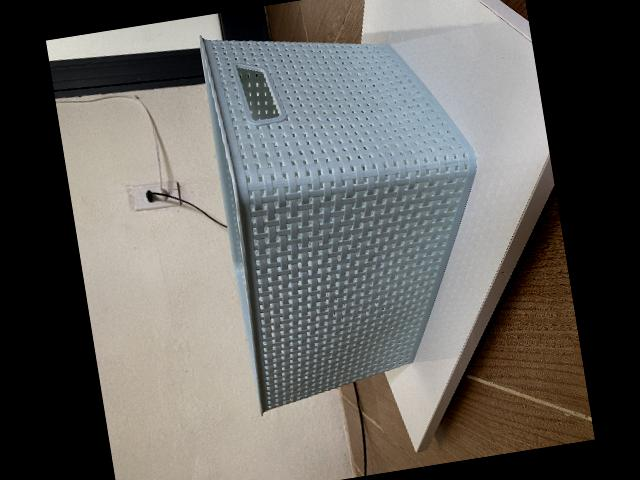cart: (200, 36, 479, 414)
